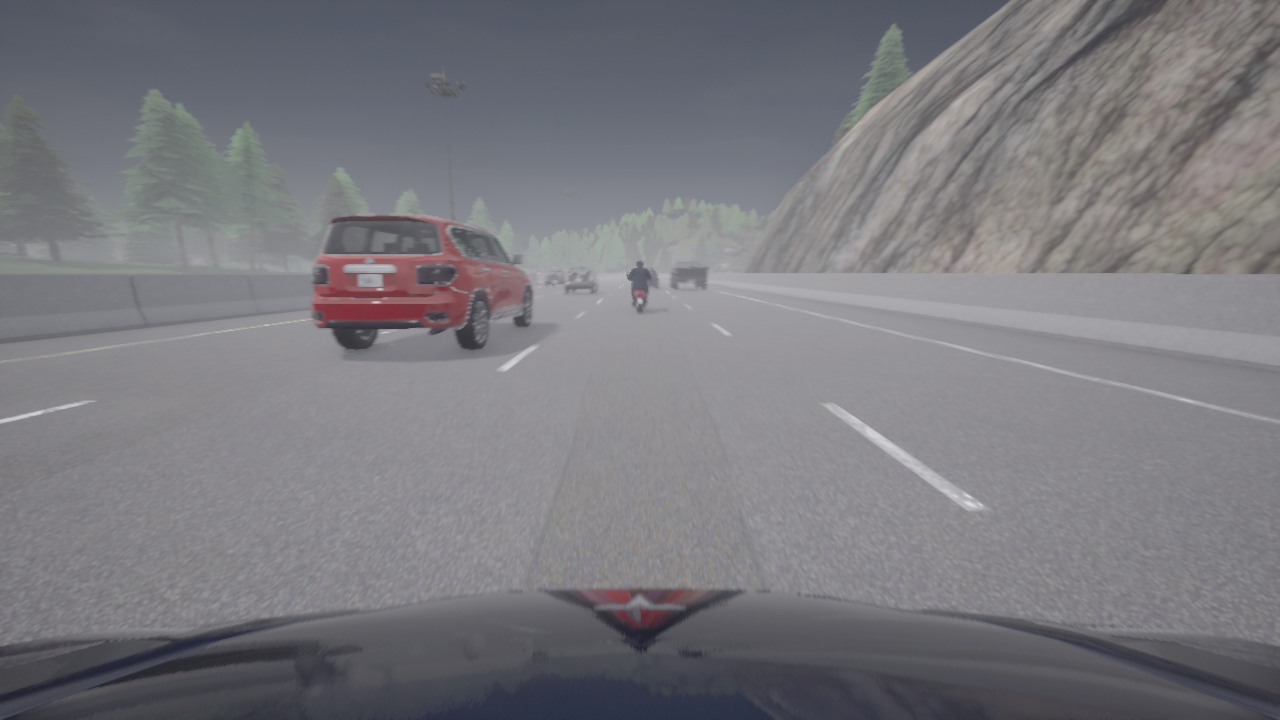cyclist: (0, 588, 1279, 719), (311, 214, 533, 349), (668, 261, 707, 289), (627, 272, 652, 312), (564, 266, 598, 293), (632, 267, 657, 287), (545, 270, 566, 287)
